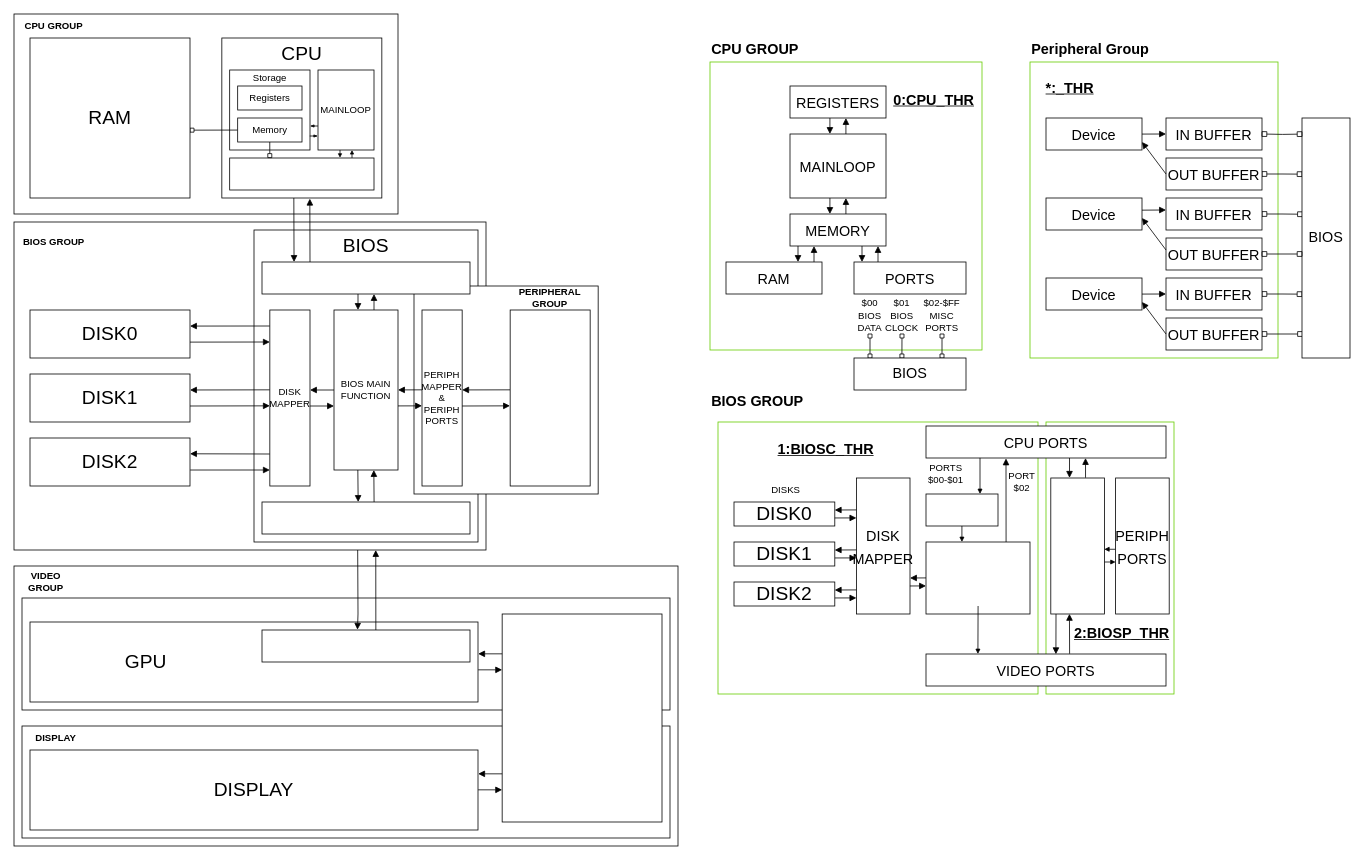
Some shapes in this 1364 by 860 pixel diagram are drawn without their labels. Each missing label, with the box of its shape:
65536 Ports: (261, 261, 470, 294)
BIOS I/O & PORTS: (229, 157, 374, 190)
BIOS Video Ports: (261, 501, 470, 534)
DECODER: (925, 493, 998, 526)
GPU-Internal Video Ports: (261, 629, 470, 662)
MAIN FUNCTION: (925, 541, 1030, 614)
PERHIPHERALS: (509, 309, 590, 486)
PERIPH MAPPER: (1050, 477, 1104, 614)
SHARED VIDEO MEMORY: (501, 613, 662, 822)
